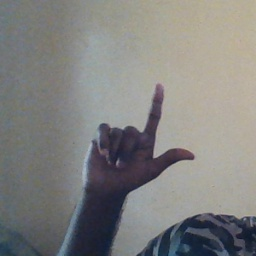L: (78, 82, 198, 192)
